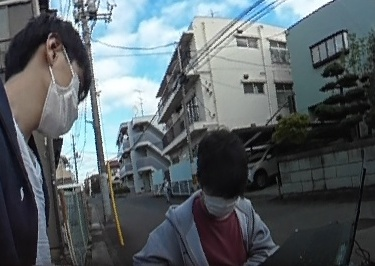person: (160, 175, 174, 202)
